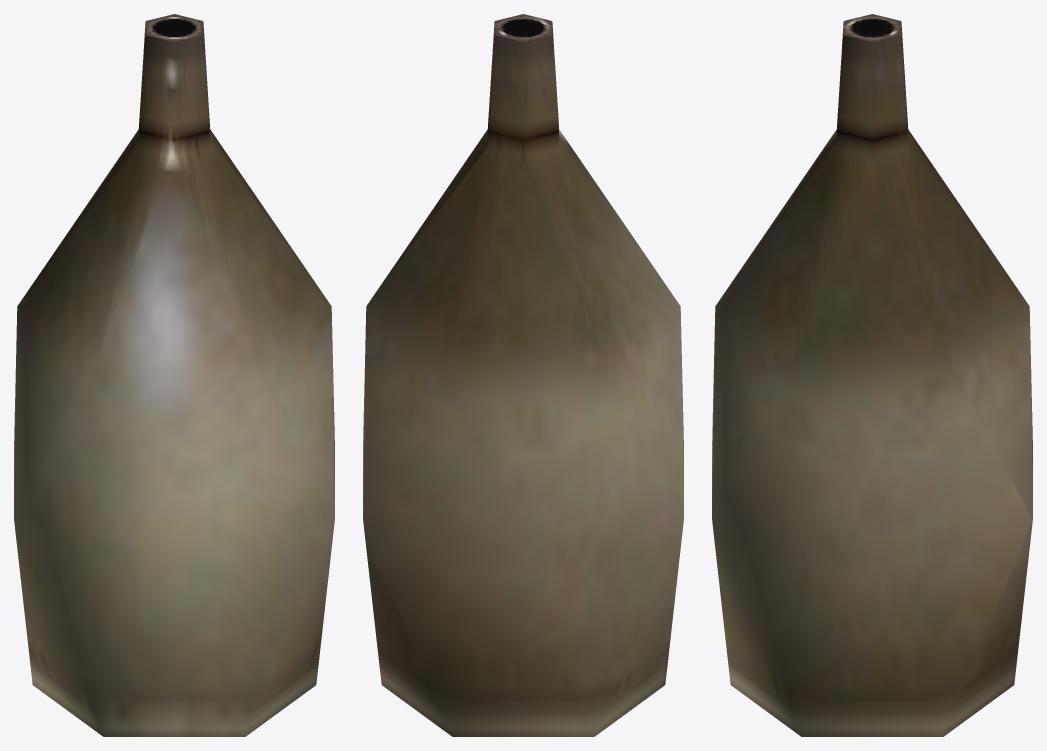
File: botl2.glb
The picture shows the model from 3 angles, left to right: view 1: azimuth 30°, elevation 25°; view 2: azimuth 150°, elevation 25°; view 3: azimuth 270°, elevation 25°; orthographic projection.
Visible parts, largest first — view 1: botl2-col; view 2: botl2-col; view 3: botl2-col.
Boxes of the visible parts, x1,y1,x2,y2 form: botl2-col: (14,14,334,736); botl2-col: (363,14,683,736); botl2-col: (712,14,1032,736).
Bounding box in the file's own units: 0.2468 × 0.4831 × 0.2137.
Materials: 1 (1 with a texture image).
